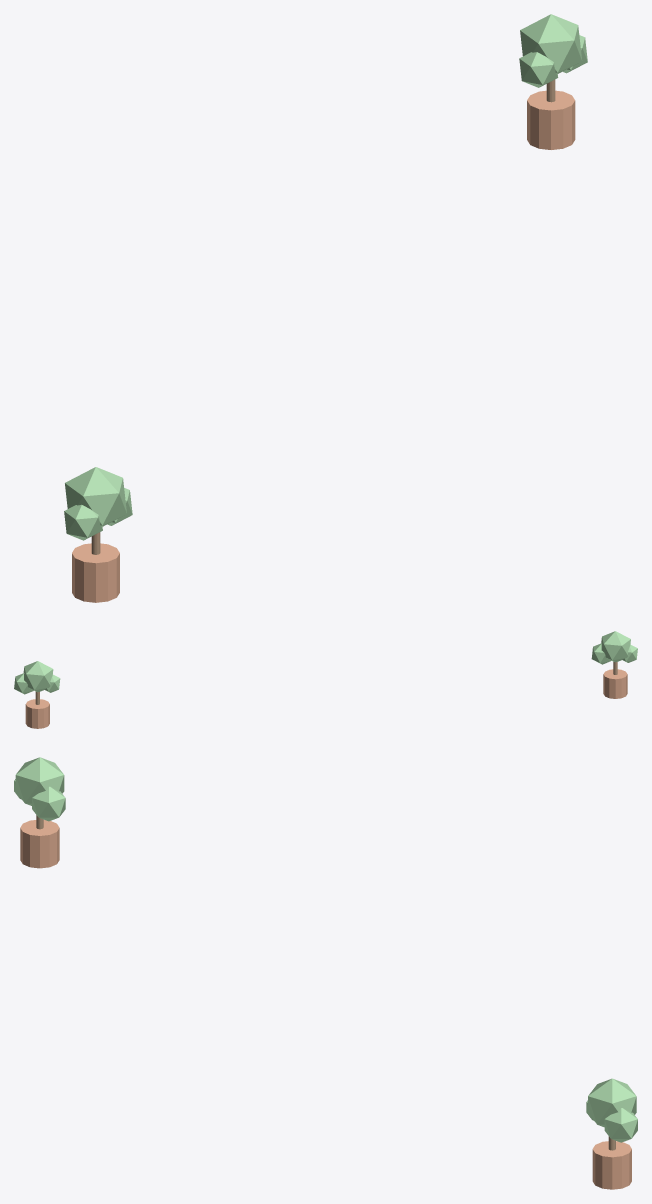
The model's file is Decor_Plants.glb.
The picture shows the model from 3 angles, top to bottom: view 1: azimuth 30°, elevation 25°; view 2: azimuth 150°, elevation 25°; view 3: azimuth 270°, elevation 25°; orthographic projection. The views are drawn at different scales.
Parts seen in each view (by area): view 1: Plant_Pot_2, Plant_Pot_1, Plant_Leaf_2_A, Plant_Leaf_1_A, Plant_Leaf_2_C, Plant_Leaf_1_C; view 2: Plant_Leaf_1_A, Plant_Leaf_2_A, Plant_Pot_1, Plant_Pot_2, Plant_Leaf_1_B, Plant_Leaf_2_B, Plant_Leaf_2_C, Plant_Leaf_1_C; view 3: Plant_Pot_1, Plant_Pot_2, Plant_Leaf_1_A, Plant_Leaf_2_A, Plant_Leaf_1_B, Plant_Leaf_2_B.
Part boxes in pixels (bbox=[...]): Plant_Pot_2: bbox=[527, 90, 575, 149]; Plant_Pot_1: bbox=[72, 543, 119, 602]; Plant_Leaf_2_A: bbox=[520, 14, 582, 73]; Plant_Leaf_1_A: bbox=[65, 467, 126, 526]; Plant_Leaf_2_C: bbox=[519, 52, 558, 87]; Plant_Leaf_1_C: bbox=[64, 504, 102, 540]; Plant_Leaf_1_A: bbox=[601, 631, 630, 662]; Plant_Leaf_2_A: bbox=[23, 661, 53, 692]; Plant_Pot_1: bbox=[603, 669, 627, 698]; Plant_Pot_2: bbox=[25, 699, 49, 728]; Plant_Leaf_1_B: bbox=[591, 643, 611, 664]; Plant_Leaf_2_B: bbox=[14, 673, 33, 694]; Plant_Leaf_2_C: bbox=[45, 674, 60, 692]; Plant_Leaf_1_C: bbox=[622, 644, 637, 662]; Plant_Pot_1: bbox=[20, 820, 59, 868]; Plant_Pot_2: bbox=[592, 1141, 631, 1189]; Plant_Leaf_1_A: bbox=[15, 757, 64, 805]; Plant_Leaf_2_A: bbox=[588, 1078, 636, 1127]; Plant_Leaf_1_B: bbox=[32, 786, 65, 821]; Plant_Leaf_2_B: bbox=[604, 1108, 637, 1142].
Bounding box in the file's own units: 9.3 × 1.27 × 6.98.
